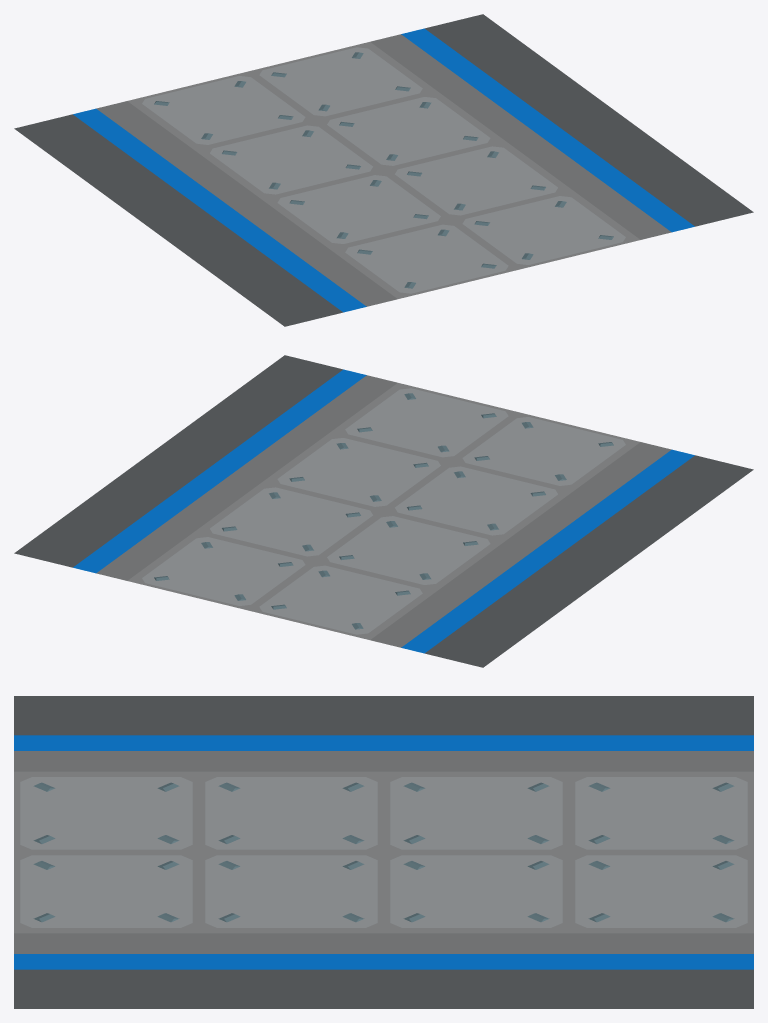
File: Floor_type_B_007_002.glb
3 renders of one model, top to bottom at view 1: azimuth 30°, elevation 25°; view 2: azimuth 150°, elevation 25°; view 3: azimuth 270°, elevation 25°, orthographic. The views are drawn at different scales.
Visible parts, largest first — view 1: Floor_type_B_007.002; view 2: Floor_type_B_007.002; view 3: Floor_type_B_007.002.
Part boxes in pixels (x1,y1,x2,y2): Floor_type_B_007.002: (14,14,753,326); Floor_type_B_007.002: (14,355,753,667); Floor_type_B_007.002: (14,696,753,1008).
Size of the model in its own units: 4 by 0.008 by 4.
Materials: 2 (2 with a texture image).
